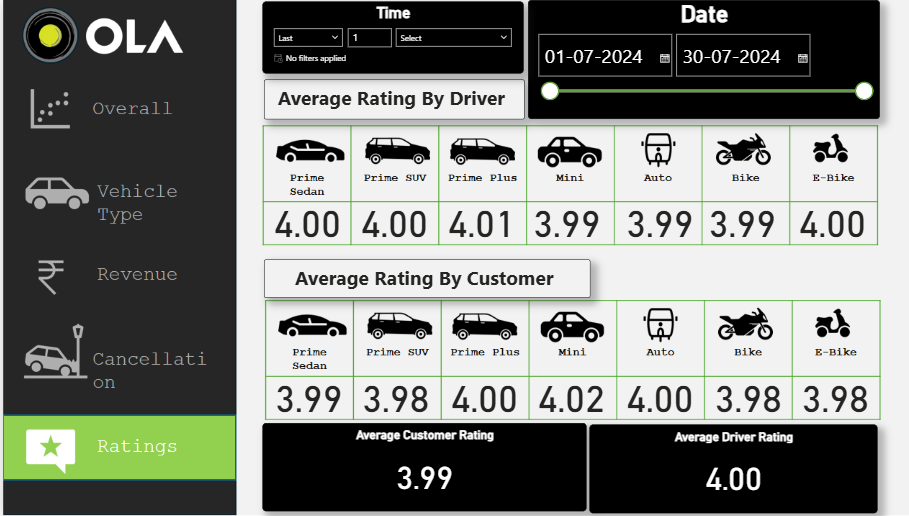

The dashboard page shown, as its layout file describes it:
{"tool":"powerbi","page":{"name":"Ratings","canvas":[1280,720],"ordinal":4},"visuals":[{"type":"actionButton","box":[0,228.1,324.6,93],"z":0},{"type":"actionButton","box":[0,336.8,324.6,93],"z":1000},{"type":"actionButton","box":[0,456.1,324.6,93],"z":2000},{"type":"actionButton","box":[0,577.2,324.6,91.2],"z":3000},{"type":"actionButton","box":[0,110.5,324.6,89.5],"z":4000},{"type":"card","fields":{"Values":["Avg(July (2).Driver_Ratings)"]},"box":[361.7,285,120,58.3],"z":4001},{"type":"card","fields":{"Values":["Avg(July (2).Driver_Ratings)"]},"box":[483.3,285,120,58.3],"z":4002},{"type":"card","fields":{"Values":["Avg(July (2).Driver_Ratings)"]},"box":[603.3,285,120,58.3],"z":4003},{"type":"card","fields":{"Values":["Avg(July (2).Driver_Ratings)"]},"box":[723.3,285,120,58.3],"z":4004},{"type":"card","fields":{"Values":["Avg(July (2).Driver_Ratings)"]},"box":[851.7,285,120,58.3],"z":4005},{"type":"card","fields":{"Values":["Avg(July (2).Driver_Ratings)"]},"box":[966.7,285,120,58.3],"z":4006},{"type":"card","fields":{"Values":["Avg(July (2).Driver_Ratings)"]},"box":[1091.7,285,120,58.3],"z":4007},{"type":"textbox","box":[361.7,110,361.7,55],"z":4008},{"type":"textbox","box":[361.7,360,453.3,53.3],"z":4009},{"type":"card","fields":{"Values":["Avg(July (2).Customer_Rating)"]},"box":[365,528.3,120,58.3],"z":4010},{"type":"card","fields":{"Values":["Avg(July (2).Customer_Rating)"]},"box":[485,528.3,120,58.3],"z":4011},{"type":"card","fields":{"Values":["Avg(July (2).Customer_Rating)"]},"box":[608.3,528.3,120,58.3],"z":4012},{"type":"card","fields":{"Values":["Avg(July (2).Customer_Rating)"]},"box":[728.3,528.3,120,58.3],"z":4013},{"type":"card","fields":{"Values":["Avg(July (2).Customer_Rating)"]},"box":[851.7,528.3,120,58.3],"z":4014},{"type":"card","fields":{"Values":["Avg(July (2).Customer_Rating)"]},"box":[975,530,120,58.3],"z":4015},{"type":"card","fields":{"Values":["Avg(July (2).Customer_Rating)"]},"box":[1096.7,528.3,120,58.3],"z":4016},{"type":"slicer","title":"Date","fields":{"Values":["July (2).Date"]},"box":[731,0,489.7,165.5],"z":4017},{"type":"slicer","title":"Time","fields":{"Values":["July (2).Time"]},"box":[361.2,1.2,362.5,100],"z":4018},{"type":"card","title":"Average Customer Rating","fields":{"Values":["Avg(July (2).Customer_Rating)"]},"box":[360.6,587.6,450,122.9],"z":4019},{"type":"card","title":"Average Driver Rating","fields":{"Values":["Avg(July (2).Driver_Ratings)"]},"box":[815.6,588.9,400,123.3],"z":4020}]}

Visuals, with their boxes in screenshot pixels (x1, y1, x2, y2), scaled from the page's 1280x720 canvas onto the 909x516 screenshot:
actionButton: locate(0, 163, 231, 230)
actionButton: locate(0, 241, 231, 308)
actionButton: locate(0, 327, 231, 394)
actionButton: locate(0, 414, 231, 479)
actionButton: locate(0, 79, 231, 143)
card - Avg(July (2).Driver_Ratings): locate(257, 204, 342, 246)
card - Avg(July (2).Driver_Ratings): locate(343, 204, 428, 246)
card - Avg(July (2).Driver_Ratings): locate(428, 204, 514, 246)
card - Avg(July (2).Driver_Ratings): locate(514, 204, 599, 246)
card - Avg(July (2).Driver_Ratings): locate(605, 204, 690, 246)
card - Avg(July (2).Driver_Ratings): locate(687, 204, 772, 246)
card - Avg(July (2).Driver_Ratings): locate(775, 204, 860, 246)
textbox: locate(257, 79, 514, 118)
textbox: locate(257, 258, 579, 296)
card - Avg(July (2).Customer_Rating): locate(259, 379, 344, 420)
card - Avg(July (2).Customer_Rating): locate(344, 379, 430, 420)
card - Avg(July (2).Customer_Rating): locate(432, 379, 517, 420)
card - Avg(July (2).Customer_Rating): locate(517, 379, 602, 420)
card - Avg(July (2).Customer_Rating): locate(605, 379, 690, 420)
card - Avg(July (2).Customer_Rating): locate(692, 380, 778, 422)
card - Avg(July (2).Customer_Rating): locate(779, 379, 864, 420)
"Date" slicer: locate(519, 0, 867, 119)
"Time" slicer: locate(257, 1, 514, 73)
"Average Customer Rating" card: locate(256, 421, 576, 509)
"Average Driver Rating" card: locate(579, 422, 863, 510)
